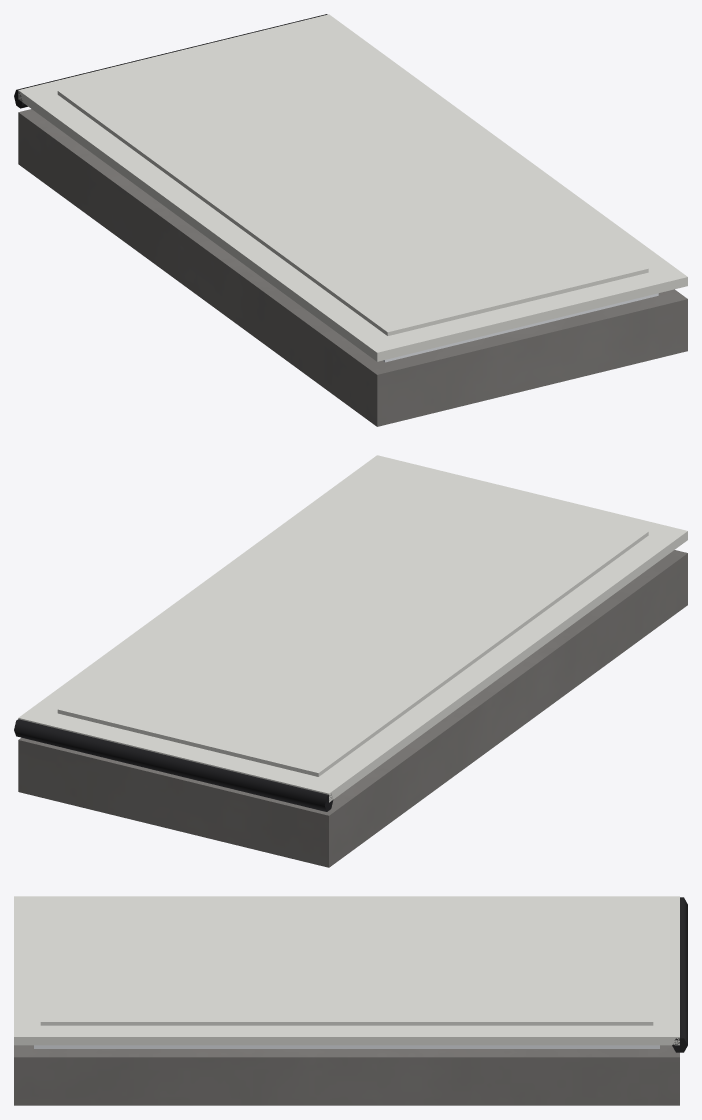
The model's file is rover27_rover_radiator_s.glb.
3 views of the same model, one above another, from view 1: azimuth 30°, elevation 25°; view 2: azimuth 150°, elevation 25°; view 3: azimuth 270°, elevation 25° (orthographic). The views are drawn at different scales.
Parts seen in each view (by area): view 1: cover, tray, radiator_panel; view 2: cover, tray, hinge; view 3: cover, tray, radiator_panel, hinge.
Boxes of the visible parts, x1,y1,x2,y2 form: cover: (18,14,687,361); tray: (18,109,687,426); radiator_panel: (383,293,658,362); cover: (18,455,687,802); tray: (18,550,687,867); hinge: (14,719,333,811); cover: (14,896,679,1045); tray: (14,1045,679,1105); radiator_panel: (34,1045,659,1048); hinge: (672,897,687,1052).
Size of the model in its own units: 0.5 by 0.12 by 1.01.
5 materials, 2 textured.
